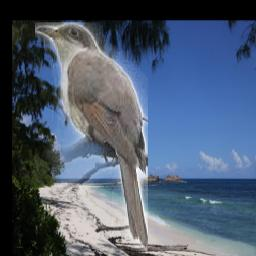Cuckoo: (36, 23, 149, 252)
